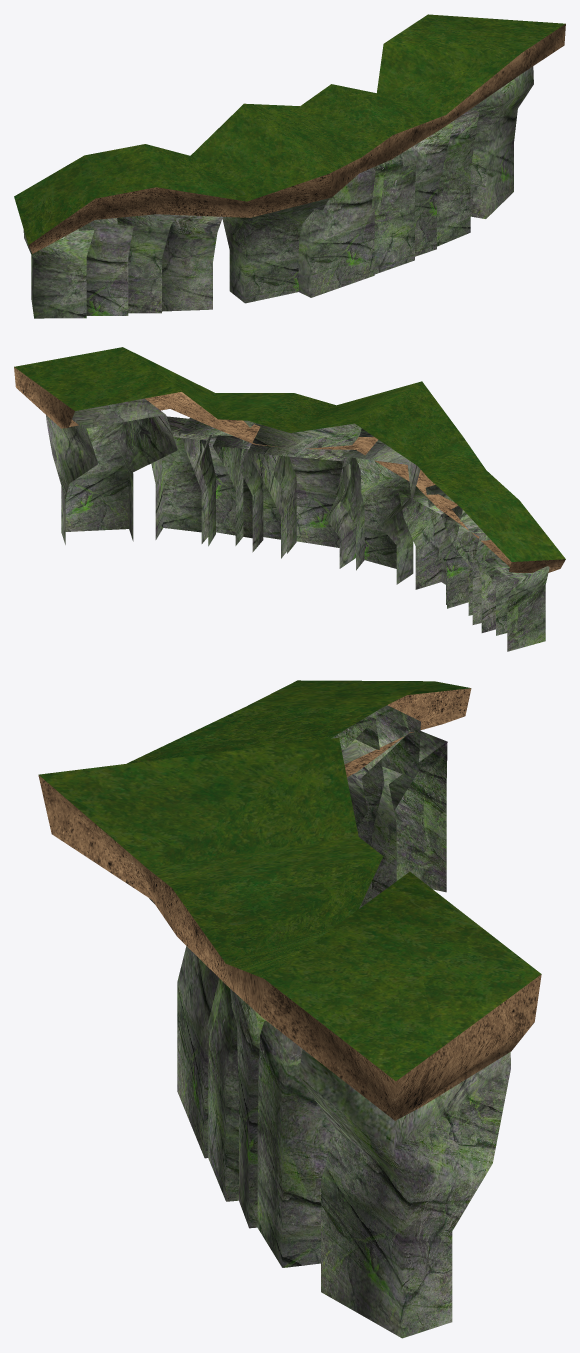
The model's file is stone-wall.glb.
The picture shows the model from 3 angles, top to bottom: view 1: azimuth 30°, elevation 25°; view 2: azimuth 150°, elevation 25°; view 3: azimuth 270°, elevation 25°; orthographic projection. The views are drawn at different scales.
Parts seen in each view (by area): view 1: stktex_generic_rockA.png__, stk_generic_grassB.png__, stktex_generic_earth_a.png__; view 2: stktex_generic_rockA.png__, stk_generic_grassB.png__, stktex_generic_earth_a.png__; view 3: stk_generic_grassB.png__, stktex_generic_rockA.png__, stktex_generic_earth_a.png__.
Part boxes in pixels (x1,y1,x2,y2): stktex_generic_rockA.png__: (23, 66, 533, 318); stk_generic_grassB.png__: (14, 14, 565, 244); stktex_generic_earth_a.png__: (28, 24, 565, 253); stktex_generic_rockA.png__: (46, 398, 549, 651); stk_generic_grassB.png__: (14, 347, 565, 561); stktex_generic_earth_a.png__: (14, 367, 565, 572); stk_generic_grassB.png__: (39, 680, 541, 1080); stktex_generic_rockA.png__: (149, 705, 510, 1338); stktex_generic_earth_a.png__: (38, 688, 541, 1120).
Size of the model in its own units: 185 by 56.99 by 75.28.
3 materials, 3 textured.
